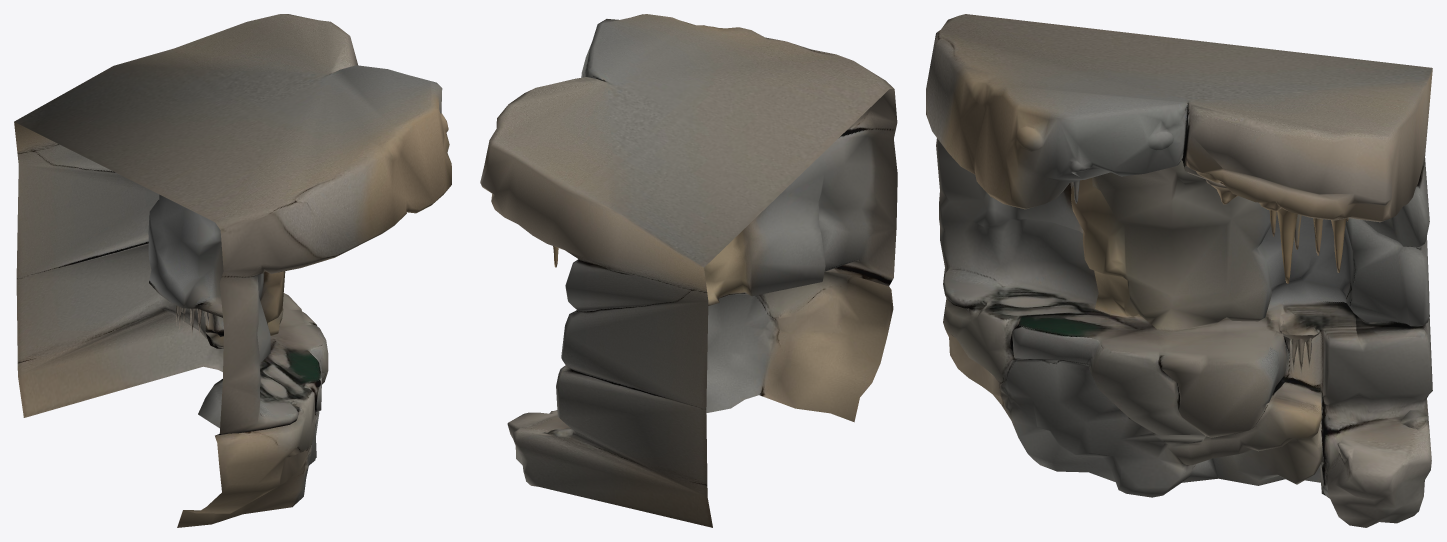
The model's file is cave-rock-dirt.glb.
3 views of the same model, side by side, from view 1: azimuth 30°, elevation 25°; view 2: azimuth 150°, elevation 25°; view 3: azimuth 270°, elevation 25° (orthographic). The views are drawn at different scales.
Parts seen in each view (by area): view 1: tripo_node_c7260614-d7a0-49c8-bba8-5c9c1bbd051f; view 2: tripo_node_c7260614-d7a0-49c8-bba8-5c9c1bbd051f; view 3: tripo_node_c7260614-d7a0-49c8-bba8-5c9c1bbd051f.
Boxes of the visible parts, bbox=[...] form: tripo_node_c7260614-d7a0-49c8-bba8-5c9c1bbd051f: bbox=[14, 14, 451, 527]; tripo_node_c7260614-d7a0-49c8-bba8-5c9c1bbd051f: bbox=[480, 14, 897, 527]; tripo_node_c7260614-d7a0-49c8-bba8-5c9c1bbd051f: bbox=[926, 14, 1432, 527].
Bounding box in the file's own units: 0.7324 × 0.9629 × 0.998.
Materials: 1 (1 with a texture image).
